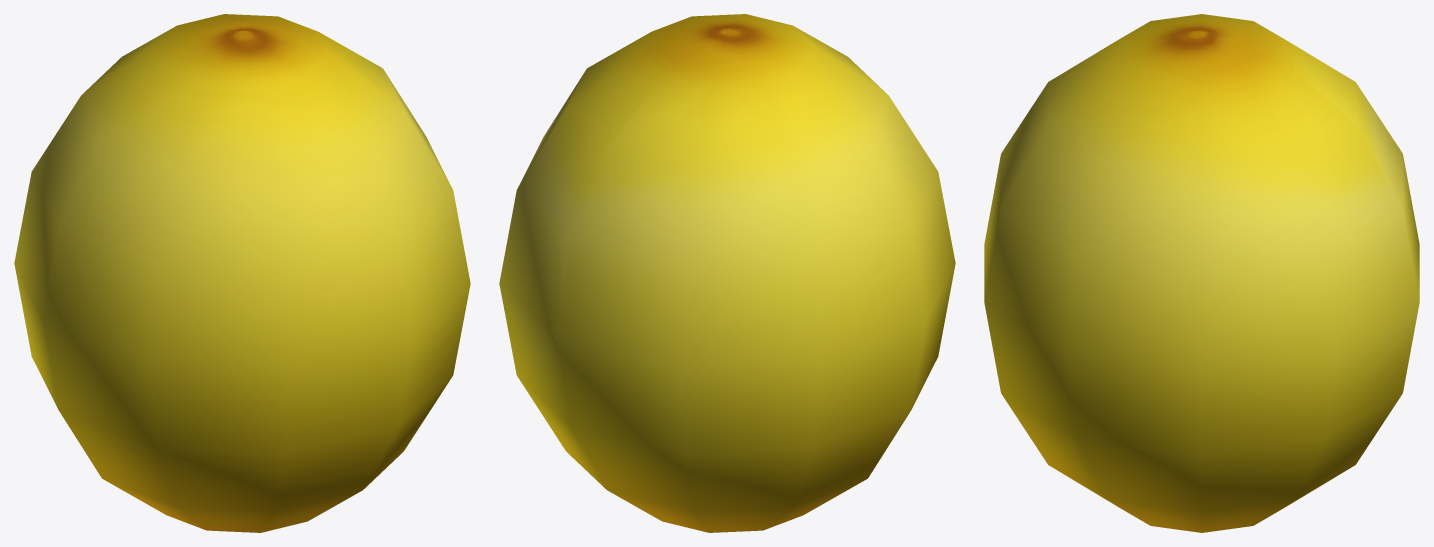
Rendered from YellowMelon.fbx.
3 views of the same model, side by side, from view 1: azimuth 30°, elevation 25°; view 2: azimuth 150°, elevation 25°; view 3: azimuth 270°, elevation 25° (orthographic).
Visible parts, largest first — view 1: YellowMelon; view 2: YellowMelon; view 3: YellowMelon.
Part boxes in pixels (box(x1,y1,x2,y2)): YellowMelon: box(14, 14, 470, 532); YellowMelon: box(499, 14, 955, 532); YellowMelon: box(984, 14, 1419, 532).
Size of the model in its own units: 52.16 by 60.61 by 49.61.
1 material, 1 textured.
